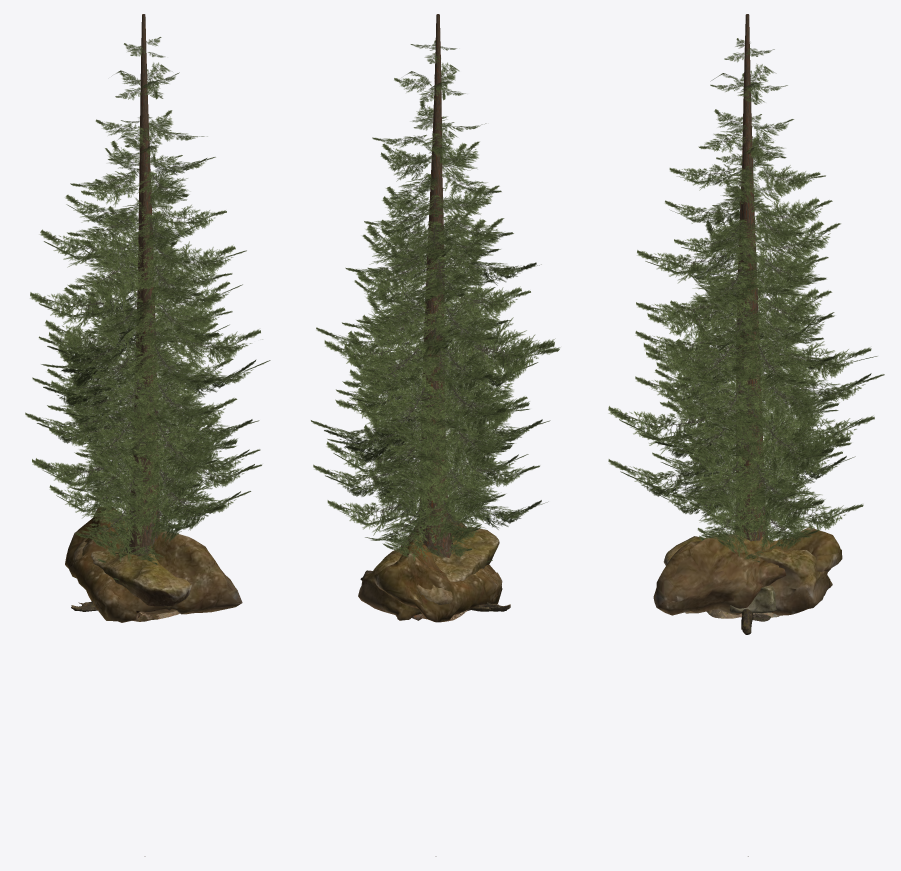
The model's file is forest-kit-photoreal.glb.
The picture shows the model from 3 angles, left to right: view 1: azimuth 30°, elevation 25°; view 2: azimuth 150°, elevation 25°; view 3: azimuth 270°, elevation 25°; orthographic projection.
Visible parts, largest first — view 1: KIT_TREE_TALL_B, KIT_TREE_TALL_A, KIT_ROCK_MOSS_02, KIT_ROCK_MOSS_01, KIT_SAPLING_01; view 2: KIT_TREE_TALL_B, KIT_TREE_TALL_A, KIT_ROCK_MOSS_02, KIT_ROCK_MOSS_01, KIT_SAPLING_01; view 3: KIT_TREE_TALL_B, KIT_TREE_TALL_A, KIT_ROCK_MOSS_02, KIT_ROCK_MOSS_01, KIT_ROCK_MOSS_03, KIT_SAPLING_01.
Part boxes in pixels (x1,y1,x2,y2): KIT_TREE_TALL_B: (25,14,270,555); KIT_TREE_TALL_A: (35,116,260,565); KIT_ROCK_MOSS_02: (65,507,242,622); KIT_ROCK_MOSS_01: (73,533,191,615); KIT_SAPLING_01: (98,456,180,614); KIT_TREE_TALL_B: (311,14,559,557); KIT_TREE_TALL_A: (313,113,548,561); KIT_ROCK_MOSS_02: (372,518,502,622); KIT_ROCK_MOSS_01: (358,527,499,620); KIT_SAPLING_01: (393,453,492,570); KIT_TREE_TALL_B: (608,14,884,541); KIT_TREE_TALL_A: (639,114,863,558); KIT_ROCK_MOSS_02: (653,527,842,615); KIT_ROCK_MOSS_01: (663,536,832,615); KIT_ROCK_MOSS_03: (730,585,776,613); KIT_SAPLING_01: (697,453,786,600).
Size of the model in its own units: 4.76 by 16.5 by 5.03.
Materials: 14 (14 with a texture image).
